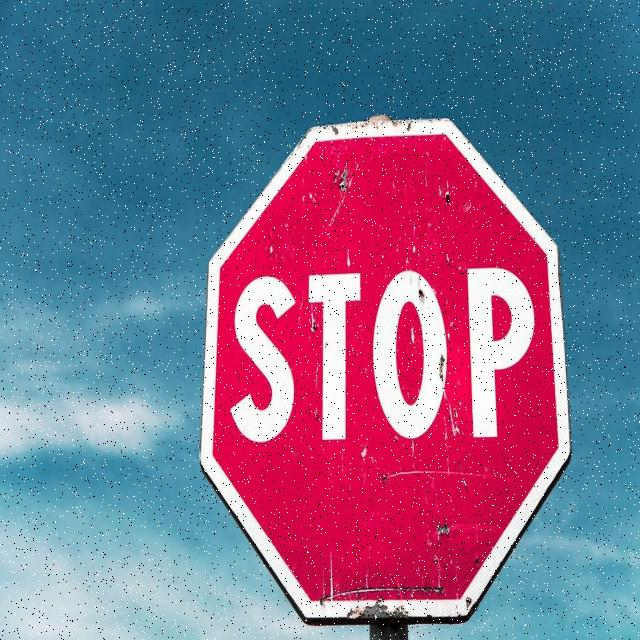stop: (202, 118, 571, 618)
